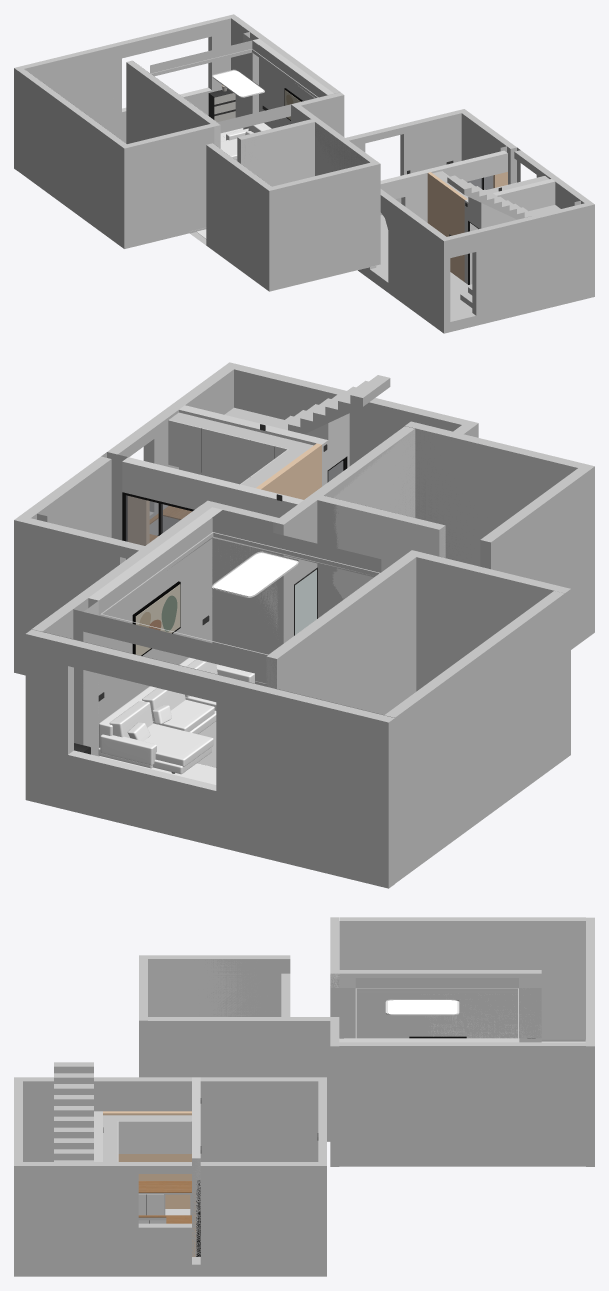
Rendered from section1.glb.
3 renders of one model, top to bottom at view 1: azimuth 30°, elevation 25°; view 2: azimuth 150°, elevation 25°; view 3: azimuth 270°, elevation 25°, orthographic. The views are drawn at different scales.
Parts seen in each view (by area): view 1: 二楼墙面, 一楼Wall.006, 二楼墙, 一楼Wall.005, 一楼Wall.001, 一楼Wall.004, 吊顶, 一楼Floor.001, 800X800二楼墙面铺贴, 10cm墙.002, 一楼Wall.002, 10cm墙.001 (+7 smaller); view 2: 二楼墙面, 二楼墙, 吊顶, 一楼Wall.001, 沙发, 一楼Wall.006, 一楼Wall.004, 1200x1200二楼墙面铺贴, 1500*750二楼墙面铺贴, 一楼Wall.002, 800X800二楼墙面铺贴, 楼梯.002 (+15 smaller); view 3: 二楼墙面, 二楼墙, 一楼Wall.002, 一楼Wall.003, 一楼Wall.007, 一楼Wall.008, 800X800二楼墙面铺贴, 一楼Wall.005, 1200x1200二楼墙面铺贴, 楼梯.002, 一楼Floor.001, 吊顶 (+13 smaller).
Part boxes in pixels (x1,y1,x2,y2): 二楼墙面: (14, 14, 380, 291); 一楼Wall.006: (440, 202, 594, 325); 二楼墙: (24, 32, 369, 186); 一楼Wall.005: (380, 189, 446, 320); 一楼Wall.001: (345, 109, 467, 214); 一楼Wall.004: (368, 150, 507, 269); 吊顶: (150, 40, 320, 133); 一楼Floor.001: (358, 215, 527, 333); 800X800二楼墙面铺贴: (114, 18, 310, 140); 10cm墙.002: (427, 172, 467, 281); 一楼Wall.002: (461, 111, 516, 189); 10cm墙.001: (464, 179, 555, 284); 二楼墙面: (25, 421, 594, 888); 二楼墙: (43, 428, 577, 790); 吊顶: (83, 518, 381, 675); 一楼Wall.001: (14, 515, 144, 658); 沙发: (98, 657, 254, 774); 一楼Wall.006: (223, 362, 478, 465); 一楼Wall.004: (122, 457, 303, 545); 1200x1200二楼墙面铺贴: (73, 544, 283, 744); 1500*750二楼墙面铺贴: (42, 500, 439, 678); 一楼Wall.002: (20, 456, 111, 537); 800X800二楼墙面铺贴: (43, 500, 317, 756); 楼梯.002: (272, 375, 390, 434); 二楼墙面: (139, 917, 594, 1166); 二楼墙: (148, 921, 585, 1042); 一楼Wall.002: (200, 1162, 318, 1264); 一楼Wall.003: (200, 1077, 318, 1161); 一楼Wall.007: (23, 1162, 93, 1276); 一楼Wall.008: (94, 1162, 191, 1264); 800X800二楼墙面铺贴: (330, 973, 541, 1038); 一楼Wall.005: (23, 1077, 191, 1161); 1200x1200二楼墙面铺贴: (330, 988, 541, 1038); 楼梯.002: (54, 1062, 93, 1161); 一楼Floor.001: (94, 1257, 326, 1276); 吊顶: (355, 978, 518, 1038).
Size of the model in its own units: 10.55 by 4 by 13.06.
Materials: 35 (2 with a texture image).
